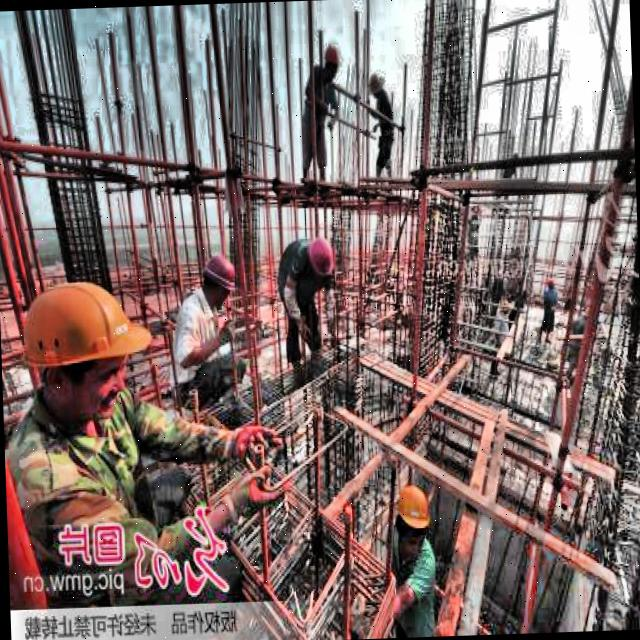helmet: (8, 276, 154, 426), (390, 482, 432, 552), (202, 255, 236, 312), (307, 230, 338, 283), (322, 46, 344, 82)
